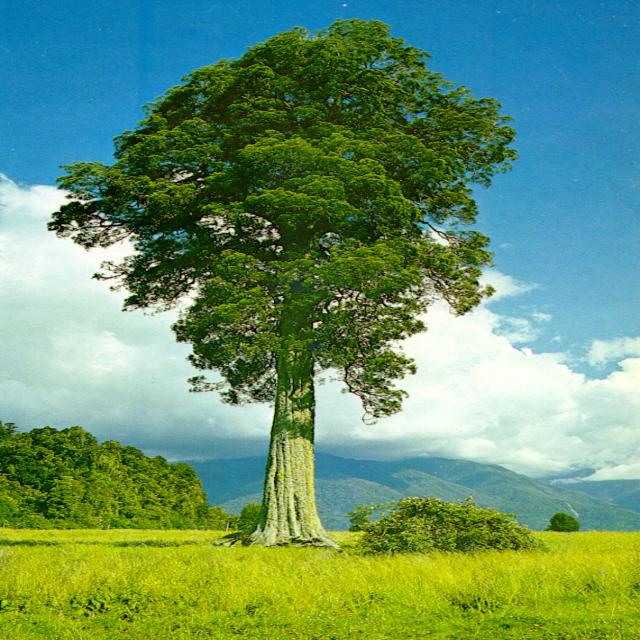Kahikatea: (147, 23, 460, 572)
